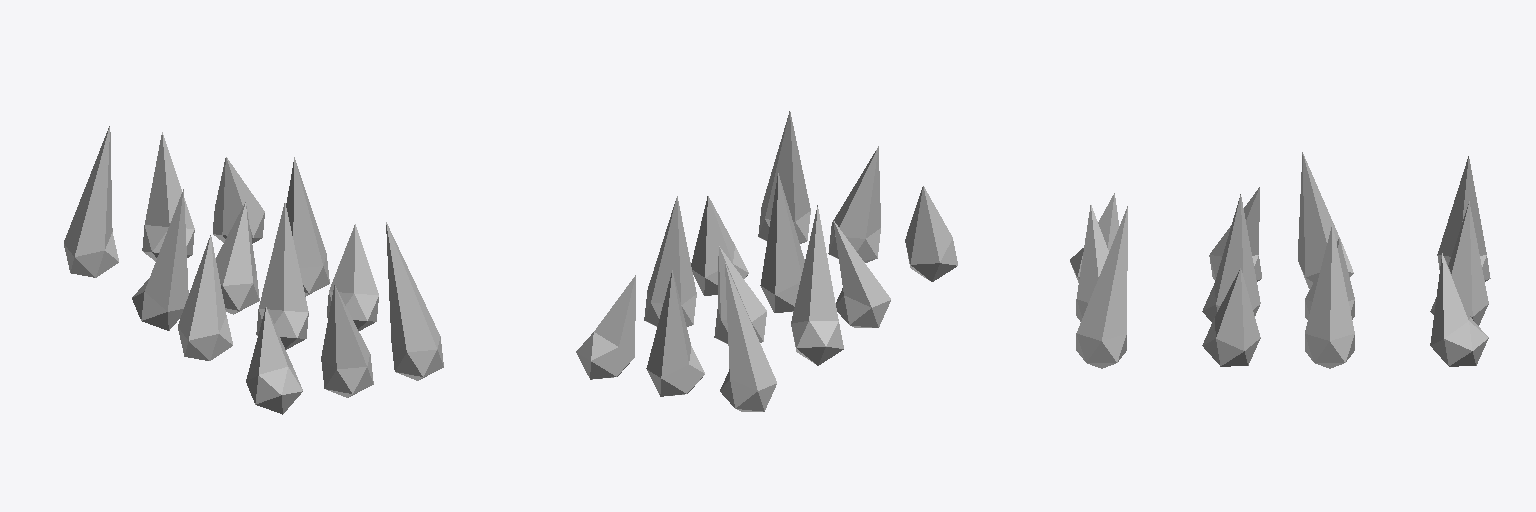
Rendered from crop_seeds2.obj.
The picture shows the model from 3 angles: view 1: azimuth 30°, elevation 25°; view 2: azimuth 150°, elevation 25°; view 3: azimuth 270°, elevation 25°; orthographic projection.
Visible parts, largest first — view 1: Icosphere.002; view 2: Icosphere.002; view 3: Icosphere.002.
Boxes of the visible parts, x1,y1,x2,y2 form: Icosphere.002: [64, 126, 443, 414]; Icosphere.002: [576, 111, 957, 411]; Icosphere.002: [1070, 152, 1490, 368].
Size of the model in its own units: 7.43 by 5.76 by 14.18.